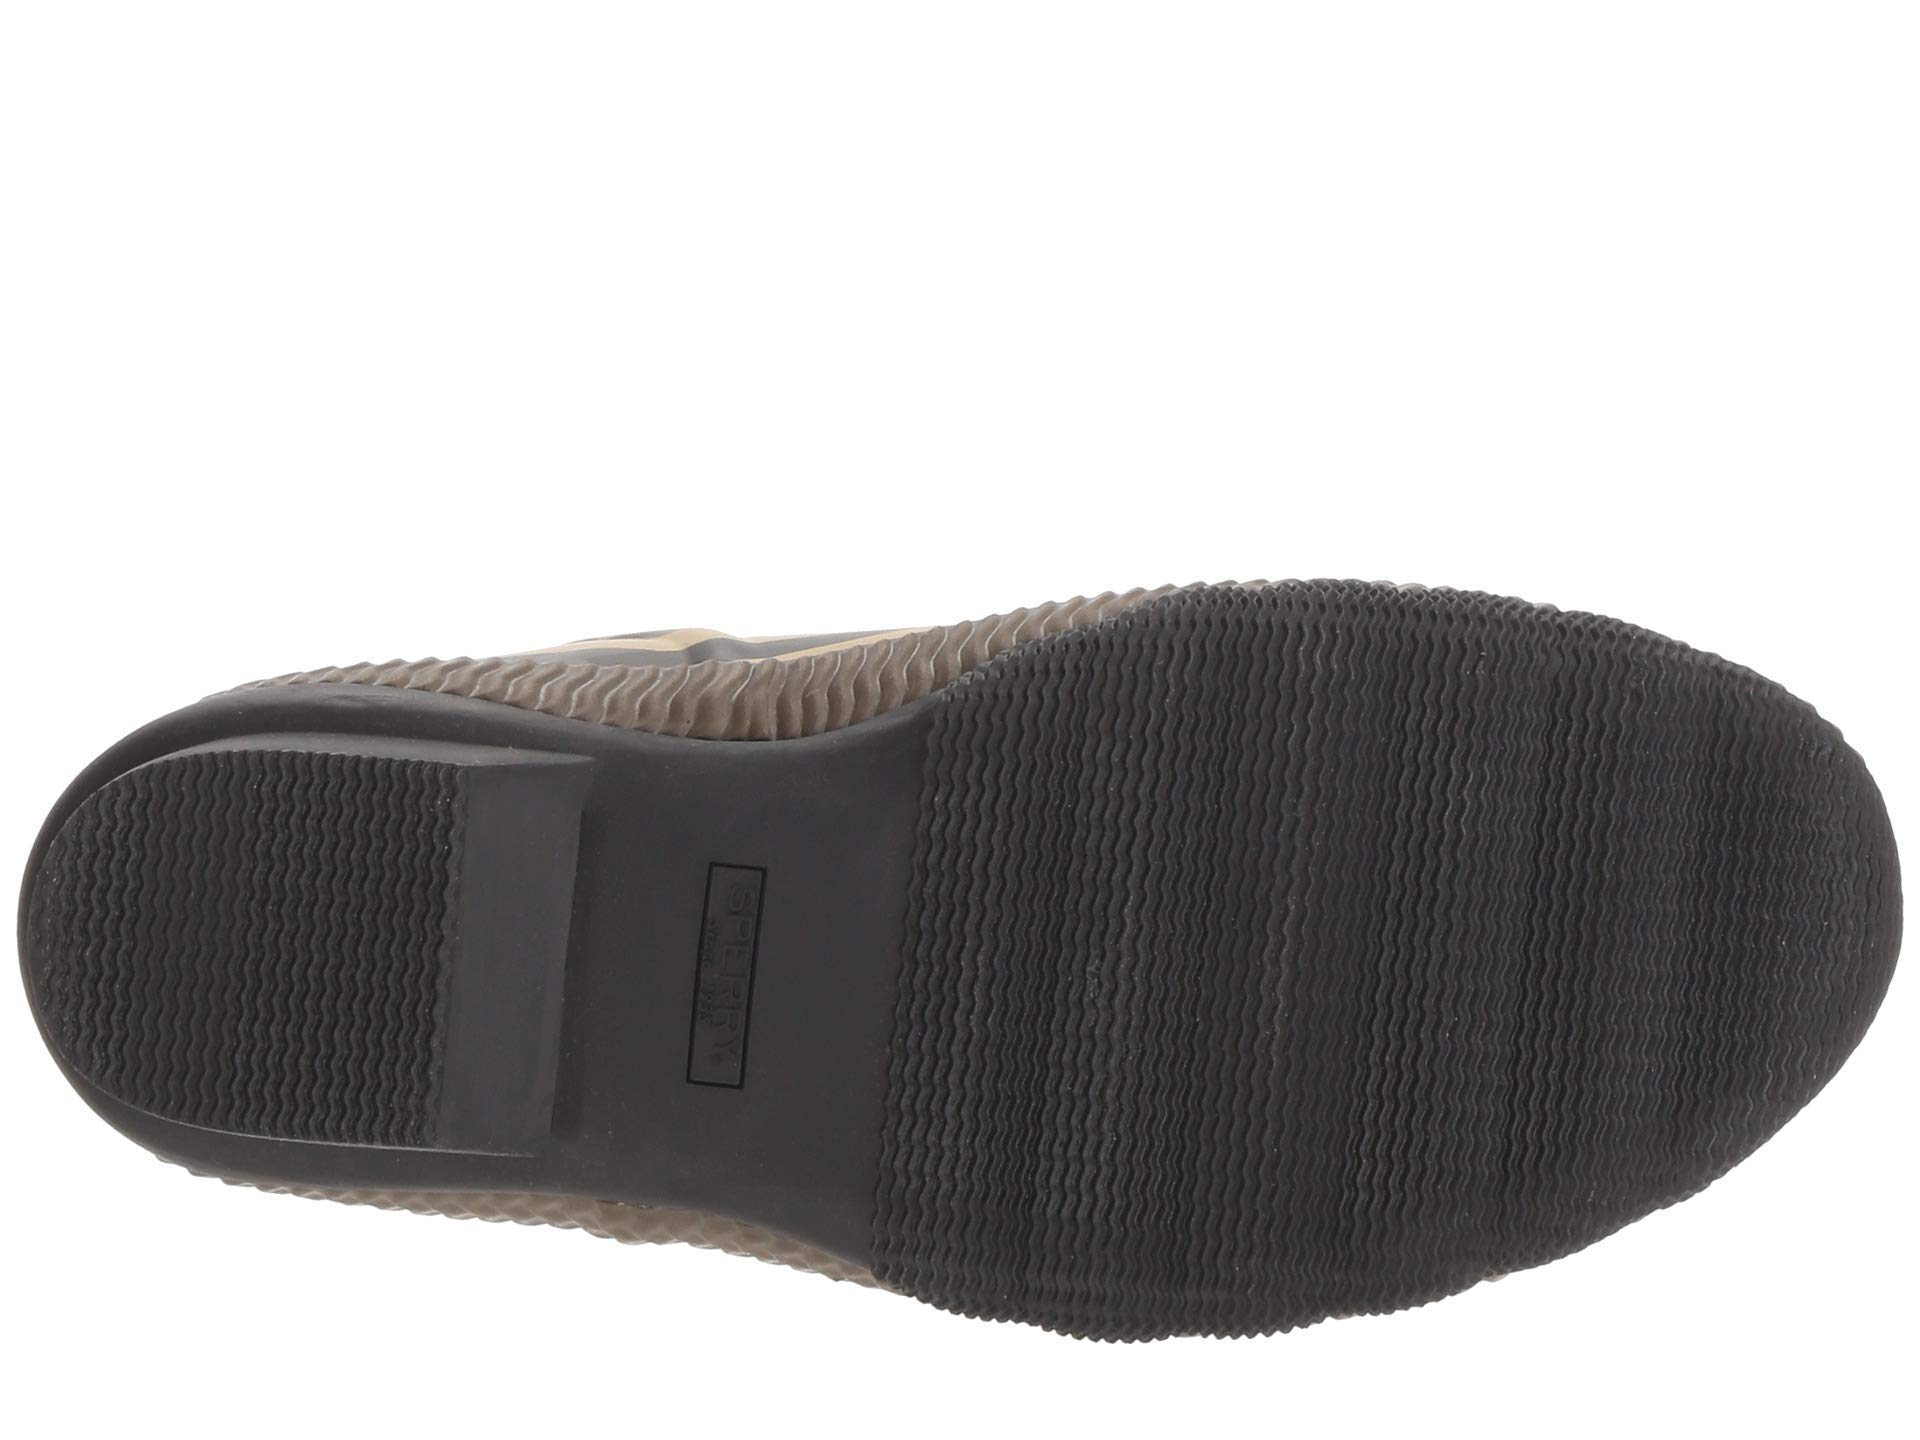chevron: (1005, 644, 1655, 1192)
quad: (662, 832, 779, 1128)
text: (662, 832, 779, 1128)
